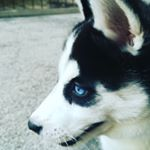puppy: (24, 1, 148, 149)
